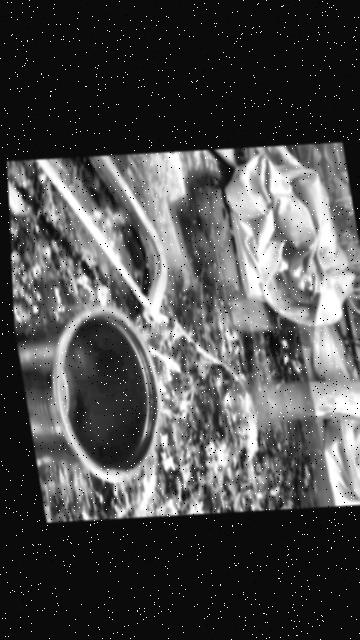pot: (13, 297, 170, 487)
